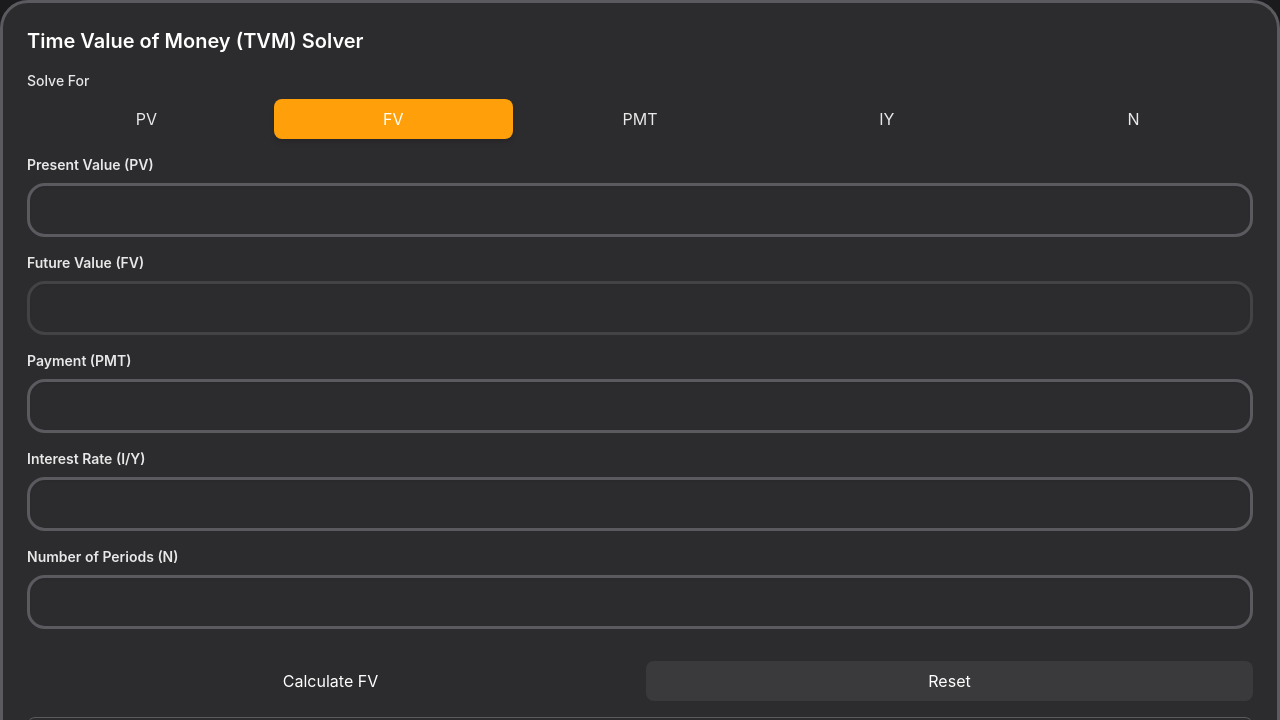
TVMCalculator › allows switching the variable to solve for
The image size is (1280, 720).
Step 1. Click the button "N" → (1134, 119), box [1014,99,1253,139]
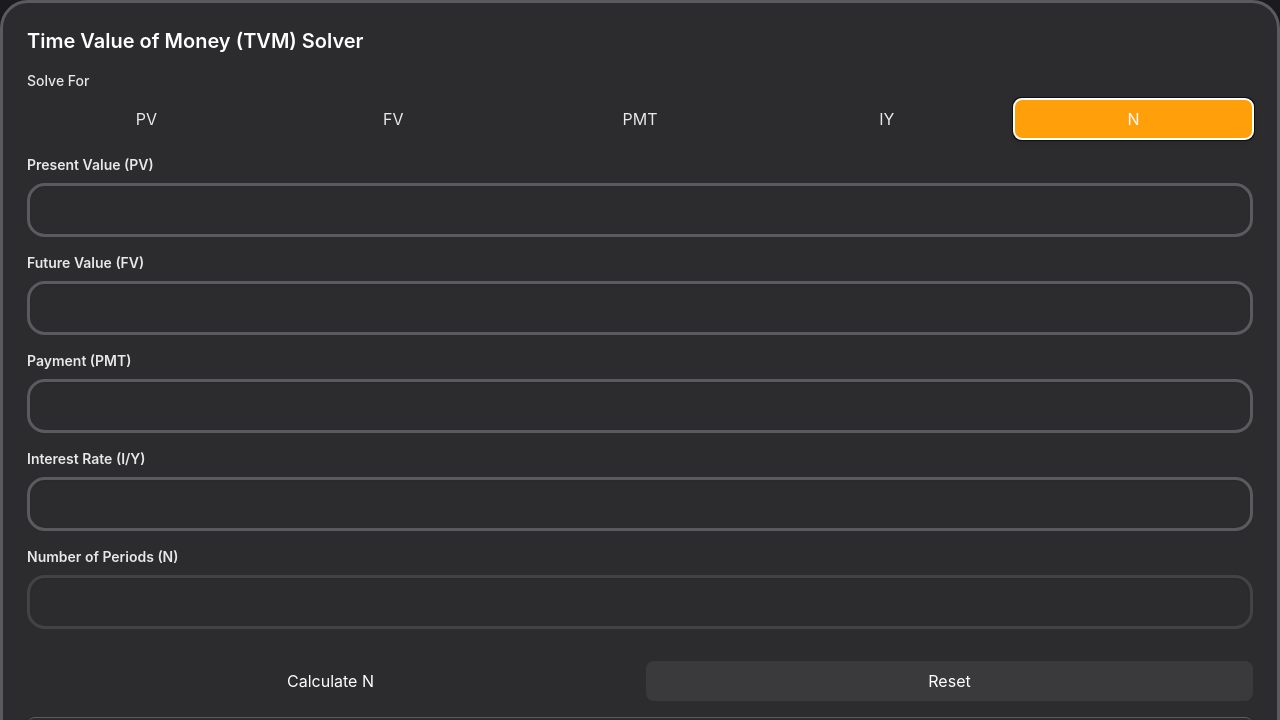
Expected: the field labelled "Number of Periods (N)" is shown, [27,575,1253,629]
Expected: the button "Calculate N" is shown, [27,661,634,701]
